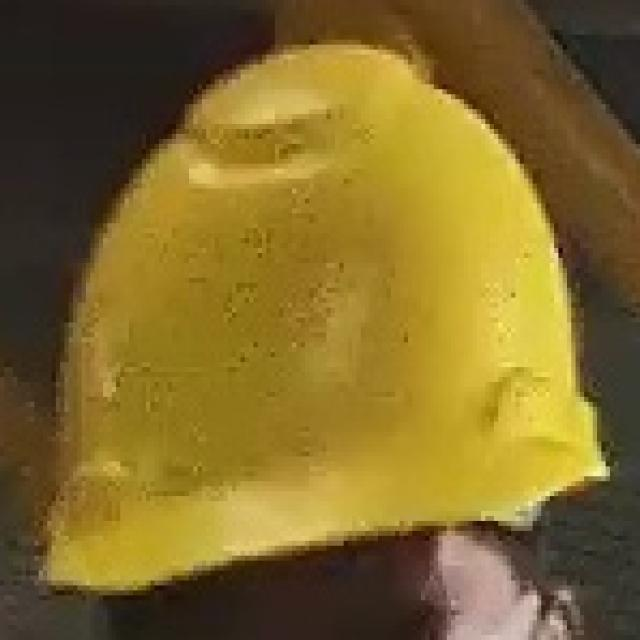yellow helmet: (51, 44, 619, 594)
